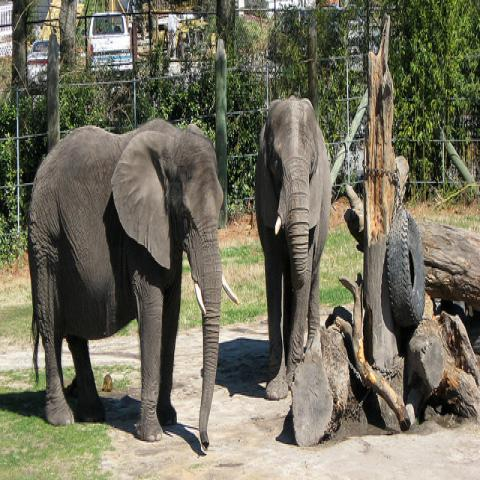car: (28, 38, 60, 82), (178, 23, 182, 30)
truck: (87, 12, 135, 70)
